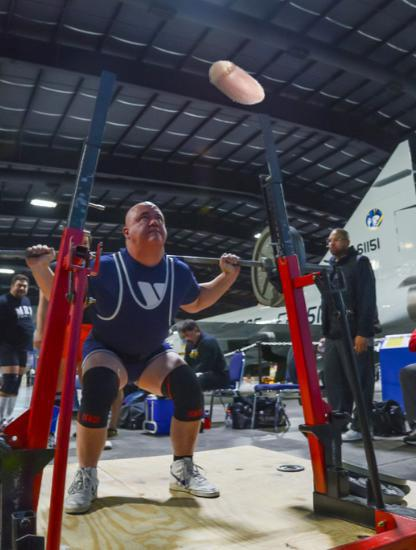Hazelnut: (205, 52, 269, 116)
